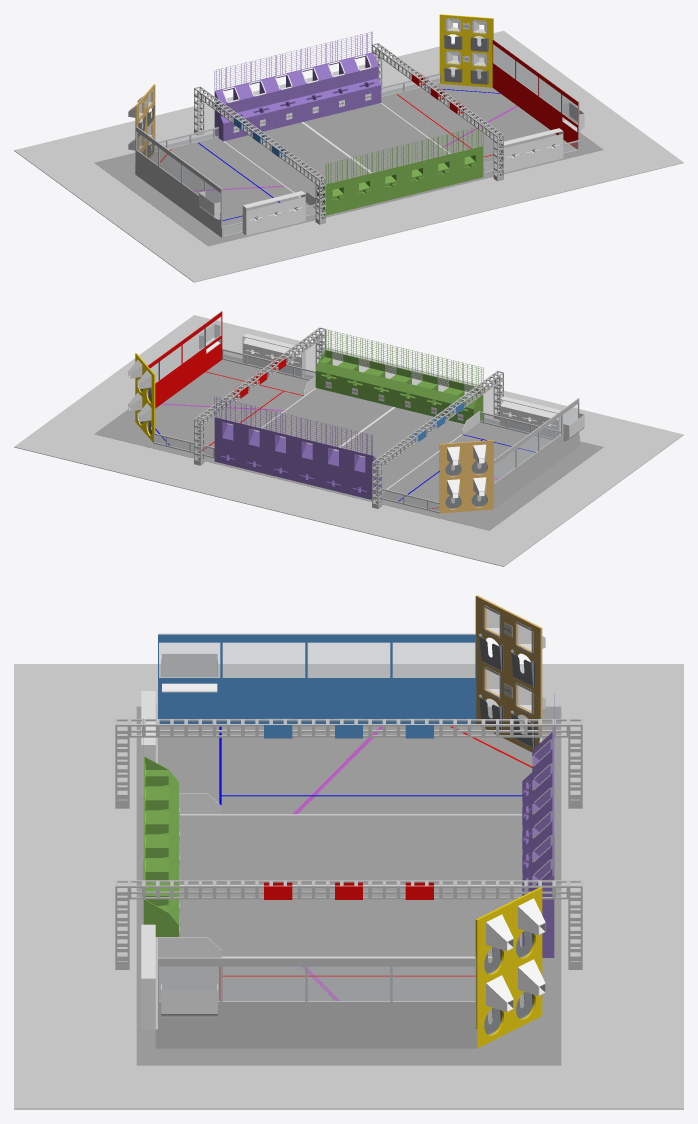
The model's file is field.glb.
3 views of the same model, one above another, from view 1: azimuth 30°, elevation 25°; view 2: azimuth 150°, elevation 25°; view 3: azimuth 270°, elevation 25° (orthographic). The views are drawn at different scales.
Visible parts, largest first — view 1: mesh1312_mesh, mesh124_mesh, mesh9692_mesh, mesh1364_mesh, mesh5487_mesh, mesh431_mesh (×2), mesh1318_mesh (×2), mesh62_mesh (×4); view 2: mesh1312_mesh, mesh124_mesh, mesh9692_mesh, mesh1364_mesh, mesh5487_mesh, mesh431_mesh (×2), mesh1318_mesh (×2), mesh62_mesh (×5); view 3: mesh1312_mesh, mesh124_mesh, mesh9692_mesh, mesh62_mesh (×6), mesh431_mesh (×2), mesh5487_mesh, mesh1364_mesh, mesh425_mesh (×2), mesh415_mesh (×4), mesh1318_mesh (×2), mesh1305_mesh (×2).
Boxes of the visible parts, x1,y1,x2,y2 form: mesh1312_mesh: (14,30,683,282); mesh124_mesh: (94,69,603,246); mesh9692_mesh: (135,14,584,237); mesh1364_mesh: (214,31,381,141); mesh5487_mesh: (317,125,483,215); mesh431_mesh (×2): (194,43,503,224); mesh1318_mesh (×2): (242,128,563,235); mesh62_mesh (×4): (159,44,560,181); mesh1312_mesh: (14,315,683,566); mesh124_mesh: (94,354,603,530); mesh9692_mesh: (135,311,584,513); mesh1364_mesh: (214,397,380,499); mesh5487_mesh: (315,329,483,423); mesh431_mesh (×2): (194,327,503,508); mesh1318_mesh (×2): (242,333,563,438); mesh62_mesh (×5): (160,329,561,483); mesh1312_mesh: (14,664,683,1109); mesh124_mesh: (136,706,561,1065); mesh9692_mesh: (155,595,542,1048); mesh62_mesh (×6): (223,643,474,1001); mesh431_mesh (×2): (115,719,582,969); mesh5487_mesh: (143,718,178,936); mesh1364_mesh: (522,694,554,957); mesh425_mesh (×2): (159,643,219,1001); mesh415_mesh (×4): (486,898,545,1012); mesh1318_mesh (×2): (141,691,155,1029); mesh1305_mesh (×2): (158,793,221,957).
Bounding box in the file's own units: 22.66 × 3.08 × 14.43.
